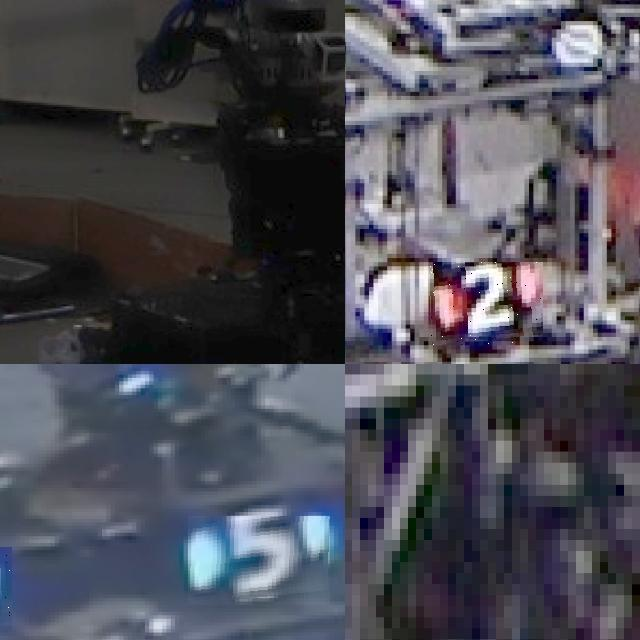B5: (188, 516, 330, 605)
R2: (428, 262, 543, 345)
